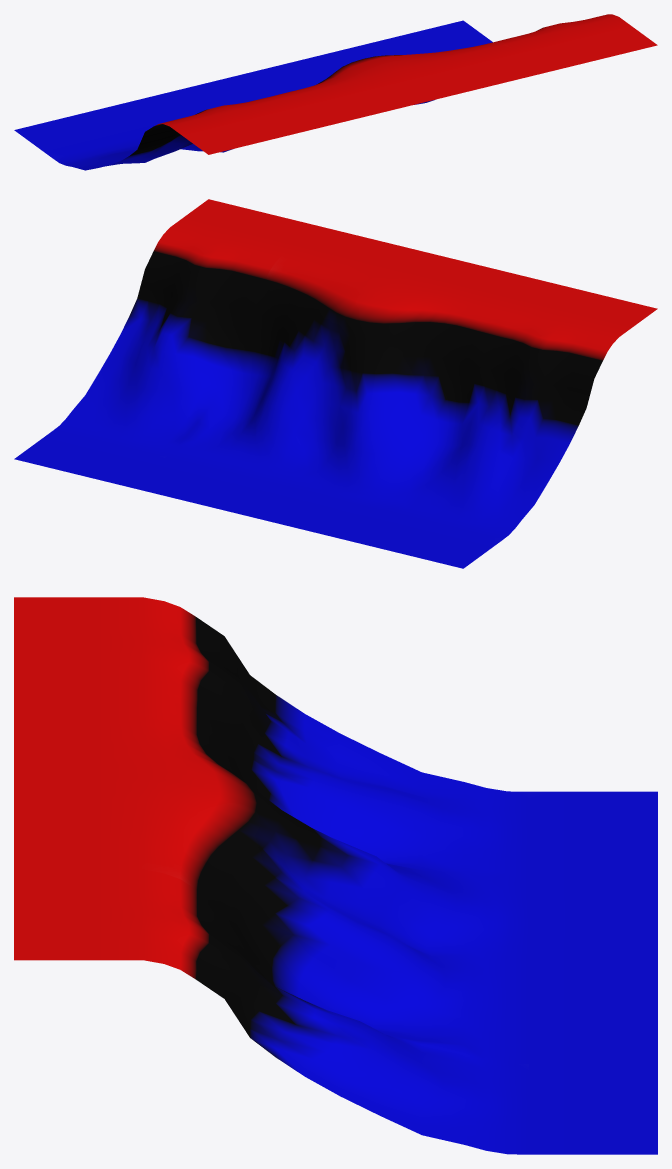
The model's file is RiverBank02B Foreground.fbx.
3 renders of one model, top to bottom at view 1: azimuth 30°, elevation 25°; view 2: azimuth 150°, elevation 25°; view 3: azimuth 270°, elevation 25°, orthographic. The views are drawn at different scales.
Parts seen in each view (by area): view 1: RiverBank02B Foreground; view 2: RiverBank02B Foreground; view 3: RiverBank02B Foreground.
Boxes of the visible parts, x1,y1,x2,y2 form: RiverBank02B Foreground: (14, 14, 657, 170); RiverBank02B Foreground: (14, 199, 657, 568); RiverBank02B Foreground: (14, 597, 657, 1154).
Size of the model in its own units: 4 by 1 by 3.
